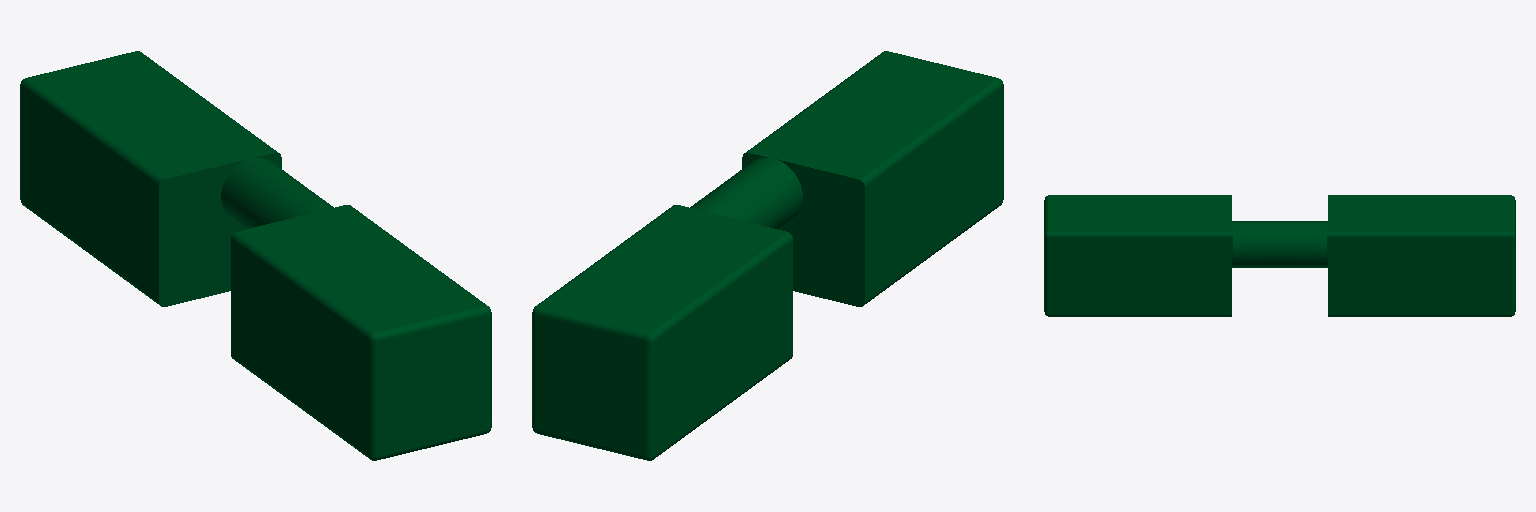
robot.urdf — piece_3:
<robot name="piece_3" version="1.0">
  <link name="piece_3">
    <collision name="geometry_0.002">
      <origin rpy="-1.57080 0.00000 1.57080" xyz="-0.57010 0.17876 0.50339"/>
      <geometry>
        <mesh filename="../meshes/obj/geometry_0.002.obj" scale="1.00000 1.00000 1.00000"/>
      </geometry>
    </collision>
    <collision name="geometry_1.002">
      <origin rpy="-1.57080 0.00000 1.57080" xyz="-0.52769 0.58673 0.54578"/>
      <geometry>
        <mesh filename="../meshes/obj/geometry_1.002.obj" scale="1.00000 1.00000 1.00000"/>
      </geometry>
    </collision>
    <collision name="geometry_2.002">
      <origin rpy="-1.57080 0.00000 1.57080" xyz="-0.56786 0.97379 0.50563"/>
      <geometry>
        <mesh filename="../meshes/obj/geometry_2.002.obj" scale="1.00000 1.00000 1.00000"/>
      </geometry>
    </collision>
    <inertial>
      <inertia ixx="0.00455" ixy="0.00000" ixz="0.00000" iyy="0.00031" iyz="-0.00000" izz="0.00455"/>
      <origin rpy="0.00000 0.00000 0.00000" xyz="-0.57233 0.58267 0.50114"/>
      <mass value="0.05000"/>
    </inertial>
    <visual name="lubanlock2.002">
      <material name="turnarrow_bluish_green"/>
      <origin rpy="-1.57080 0.00000 1.57080" xyz="-0.56789 0.58286 0.50558"/>
      <geometry>
        <mesh filename="../meshes/obj/lubanlock2.002.obj" scale="0.01000 0.01000 0.01000"/>
      </geometry>
    </visual>
  </link>
  <material name="turnarrow_bluish_green">
    <color rgba="0.00000 0.34118 0.16863 1.00000"/>
  </material>
</robot>

--- Render facts (derived) ---
Views: 3 orthographic renders of the robot side by side, from view 1: azimuth 30°, elevation 25°; view 2: azimuth 150°, elevation 25°; view 3: azimuth 270°, elevation 25°.
Robot: piece_3 — 1 links, 0 joints (none); root link piece_3; default pose: every joint at zero.
Visible links, largest first — view 1: piece_3; view 2: piece_3; view 3: piece_3.
Boxes of the visible links, x1,y1,x2,y2 form: piece_3: (20,51,491,460); piece_3: (532,51,1003,460); piece_3: (1044,195,1515,316).
Bounding box of the posed robot: 0.199 × 1 × 0.199 m (x, y, z).
Meshes: 1 distinct files referenced, 1 mesh visuals loaded (1 OBJ).